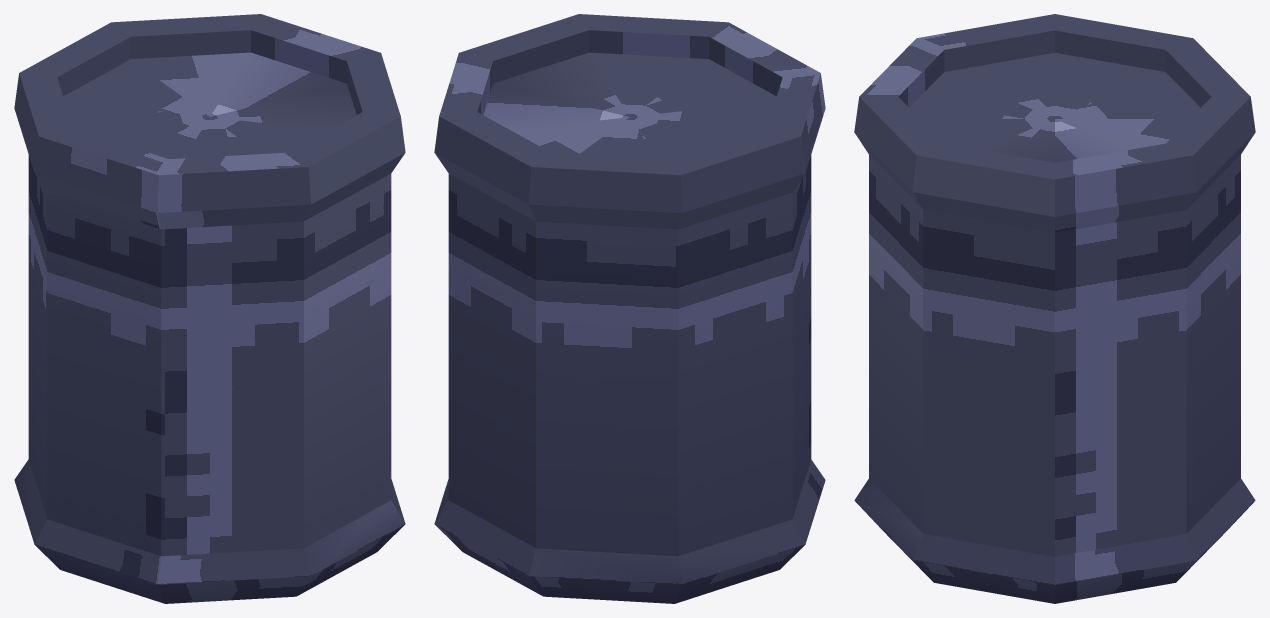
Rendered from cydress.barrel.glb.
The picture shows the model from 3 angles, left to right: view 1: azimuth 30°, elevation 25°; view 2: azimuth 150°, elevation 25°; view 3: azimuth 270°, elevation 25°; orthographic projection.
Visible parts, largest first — view 1: kit_body; view 2: kit_body; view 3: kit_body.
Part boxes in pixels (bbox=[...]): kit_body: bbox=[14, 14, 405, 603]; kit_body: bbox=[434, 14, 825, 603]; kit_body: bbox=[854, 14, 1255, 603].
Size of the model in its own units: 0.82 by 0.98 by 0.82.
1 material, 1 textured.
